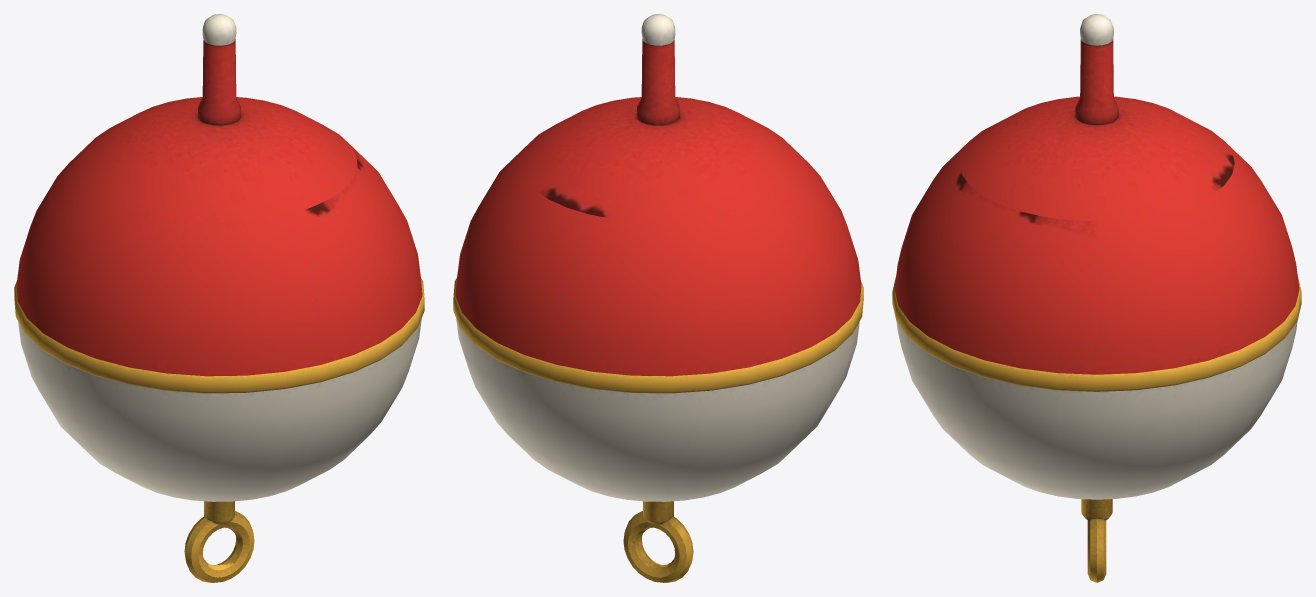
The picture shows the model from 3 angles, left to right: view 1: azimuth 30°, elevation 25°; view 2: azimuth 150°, elevation 25°; view 3: azimuth 270°, elevation 25°; orthographic projection.
Parts seen in each view (by area): view 1: Float_Red_Gloss, Float_Cream_Gloss, Float_Polished_Brass; view 2: Float_Red_Gloss, Float_Cream_Gloss, Float_Polished_Brass; view 3: Float_Red_Gloss, Float_Cream_Gloss, Float_Polished_Brass.
Boxes of the visible parts, bbox=[...] form: Float_Red_Gloss: bbox=[16, 39, 422, 376]; Float_Cream_Gloss: bbox=[18, 14, 421, 501]; Float_Polished_Brass: bbox=[14, 278, 424, 582]; Float_Red_Gloss: bbox=[455, 39, 861, 376]; Float_Cream_Gloss: bbox=[456, 14, 859, 501]; Float_Polished_Brass: bbox=[453, 278, 863, 582]; Float_Red_Gloss: bbox=[894, 39, 1299, 374]; Float_Cream_Gloss: bbox=[896, 14, 1297, 499]; Float_Polished_Brass: bbox=[892, 276, 1301, 582].
Bounding box in the file's own units: 0.6057 × 0.92 × 0.6057.
3 materials, 3 textured.
